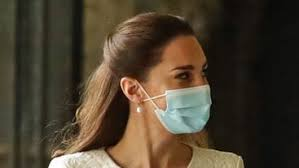mask: (157, 84, 211, 134)
